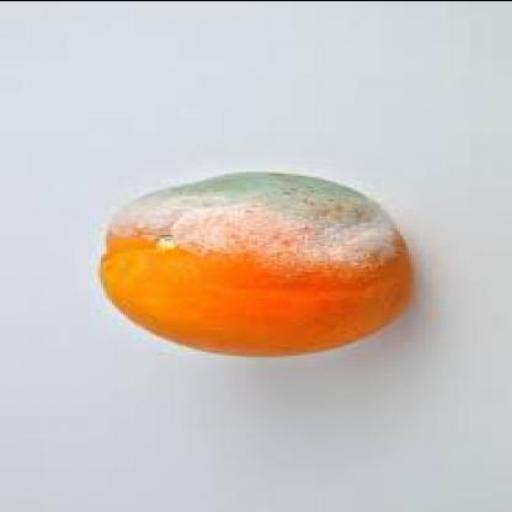biodegradable: (95, 169, 411, 354)
